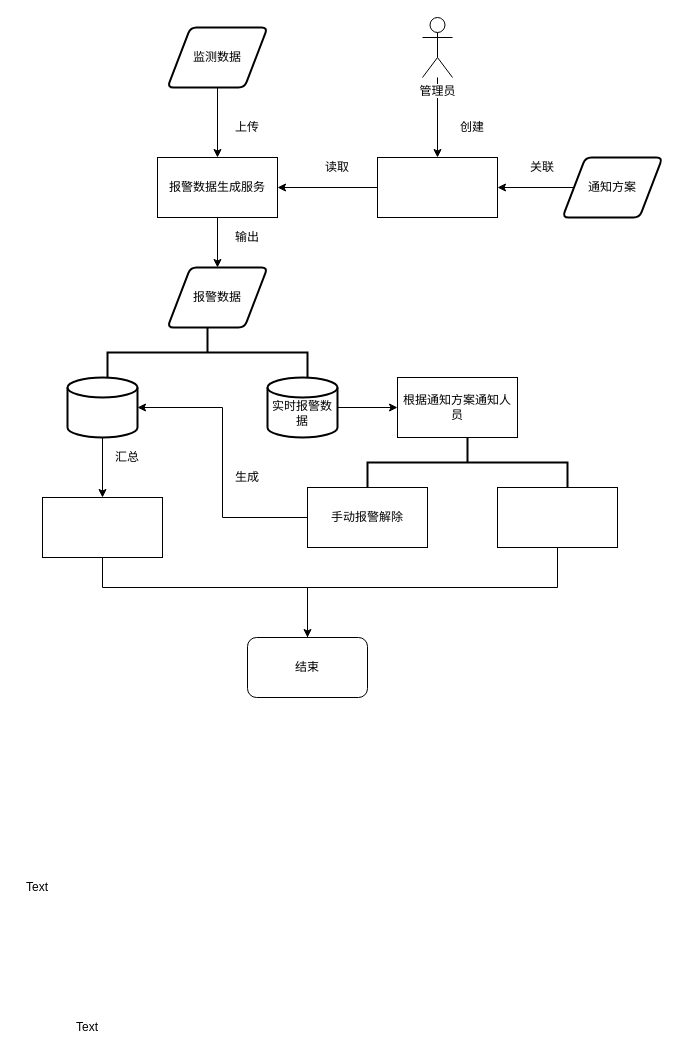
Some shapes in this 680 by 1055 pixel diagram are drawn without their labels. Each missing label, with the centre of its shape:
"历史报警数据" belongs at (102,407).
"报警方案" belongs at (437,187).
"统计分析" belongs at (102,527).
"调整操作，使监测值回复正常" belongs at (557,517).
